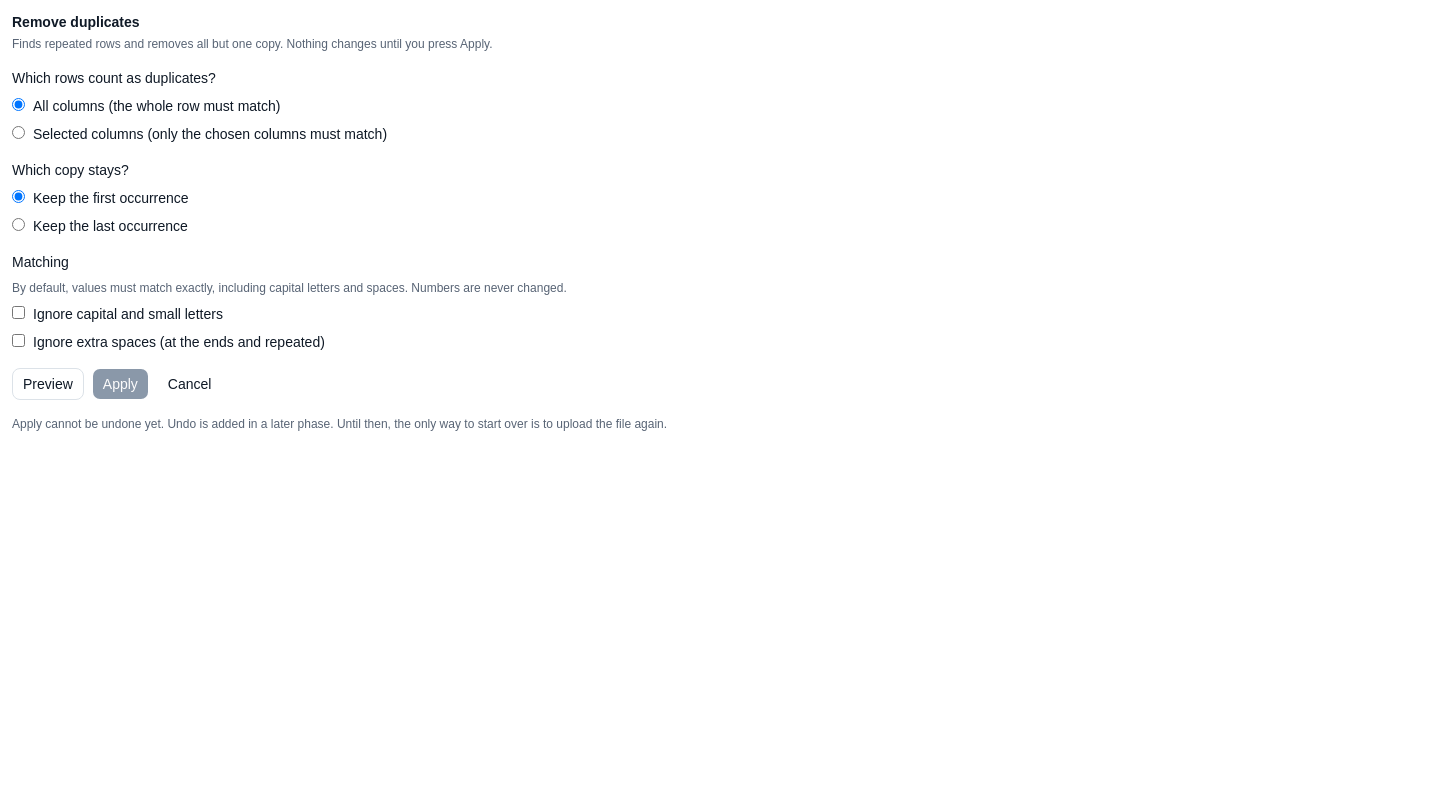
Test case: DuplicatesPanel: preview › sends every setting the user chose
The width and height of the screenshot is (1452, 810).
Click the radio button labelled "Keep the last occurrence" at (18, 224), box x1=12 y1=218 x2=25 y2=231
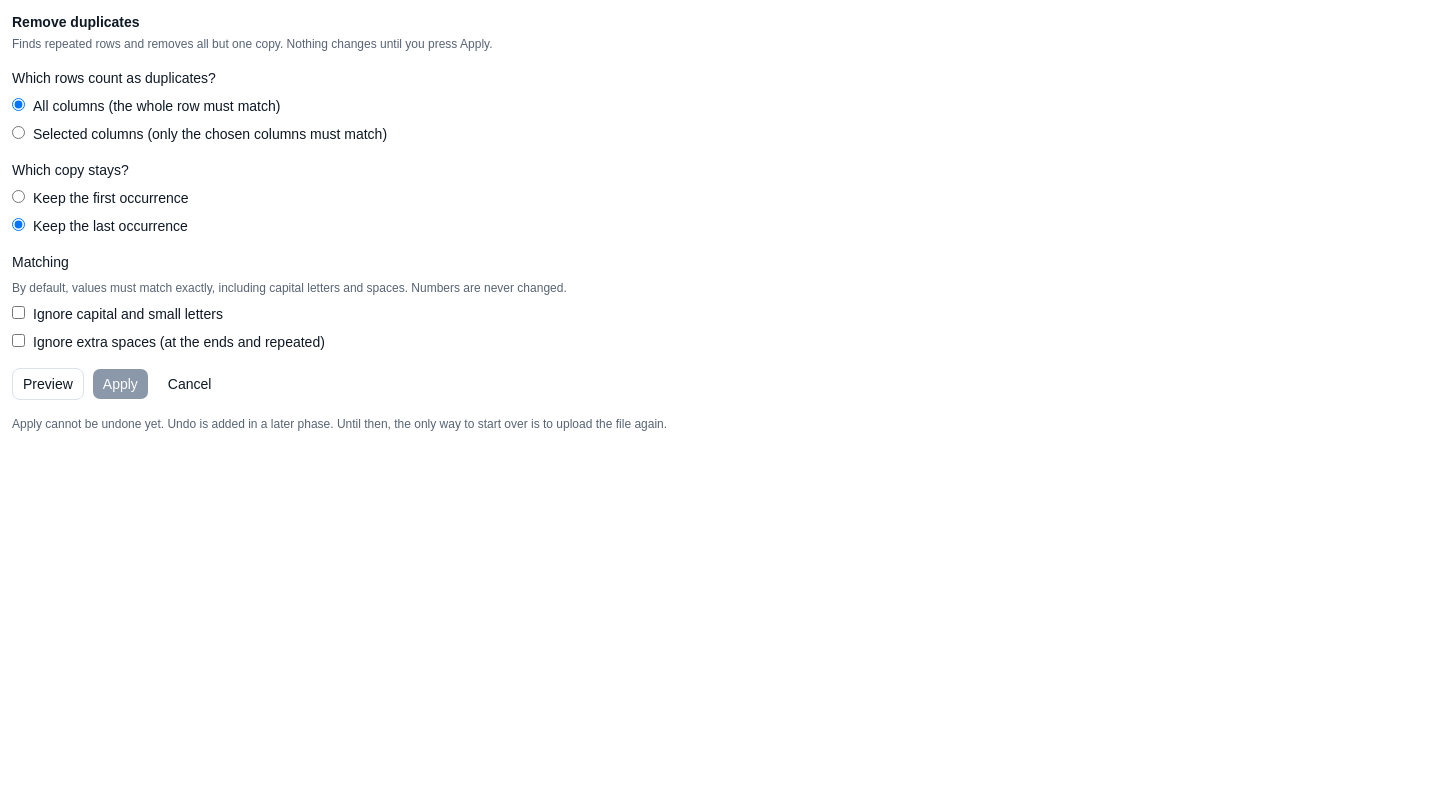
Click the checkbox labelled "Ignore capital and small letters" at (18, 312), box x1=12 y1=306 x2=25 y2=319
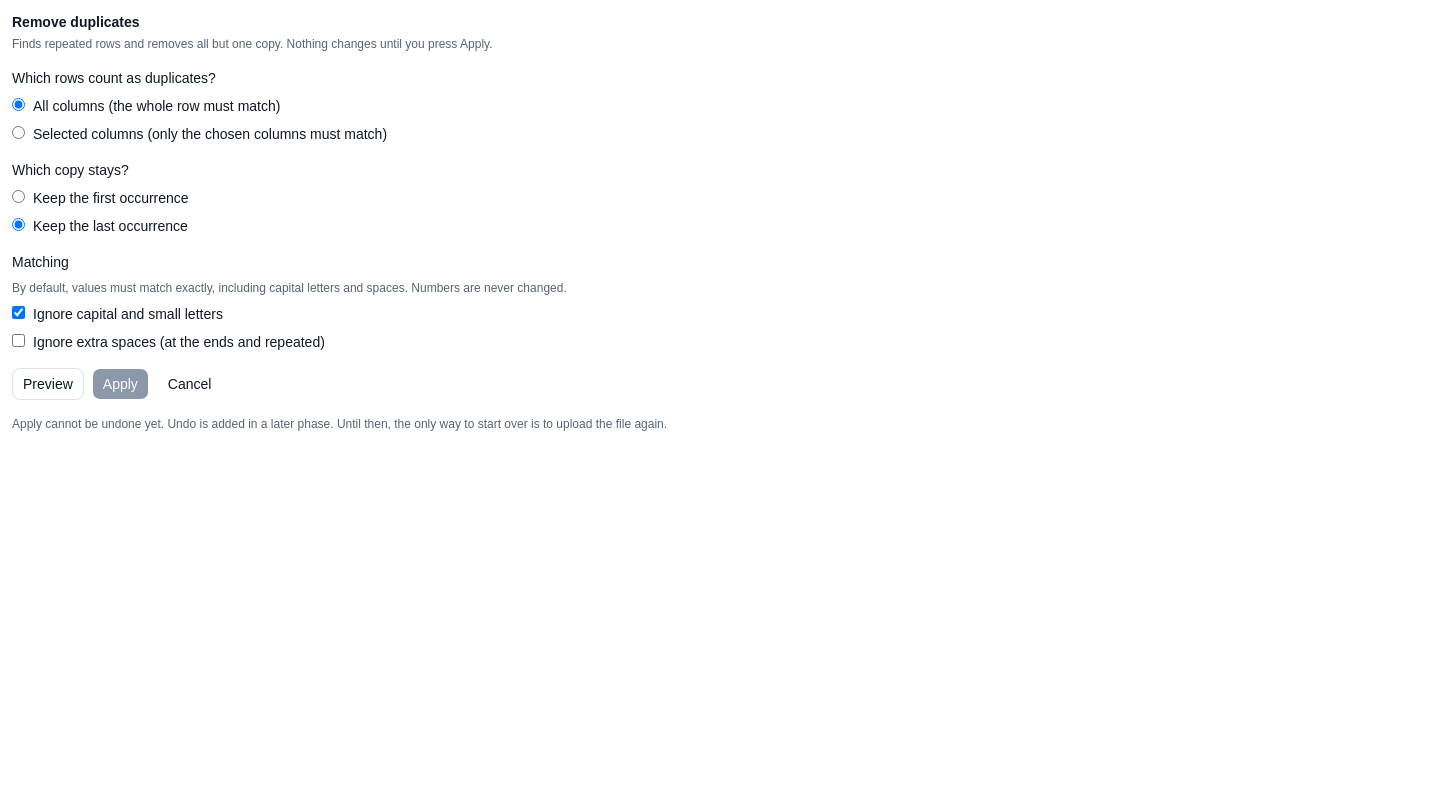
Click the checkbox labelled "Ignore extra spaces (at the ends and repeated)" at (18, 340), box x1=12 y1=334 x2=25 y2=347
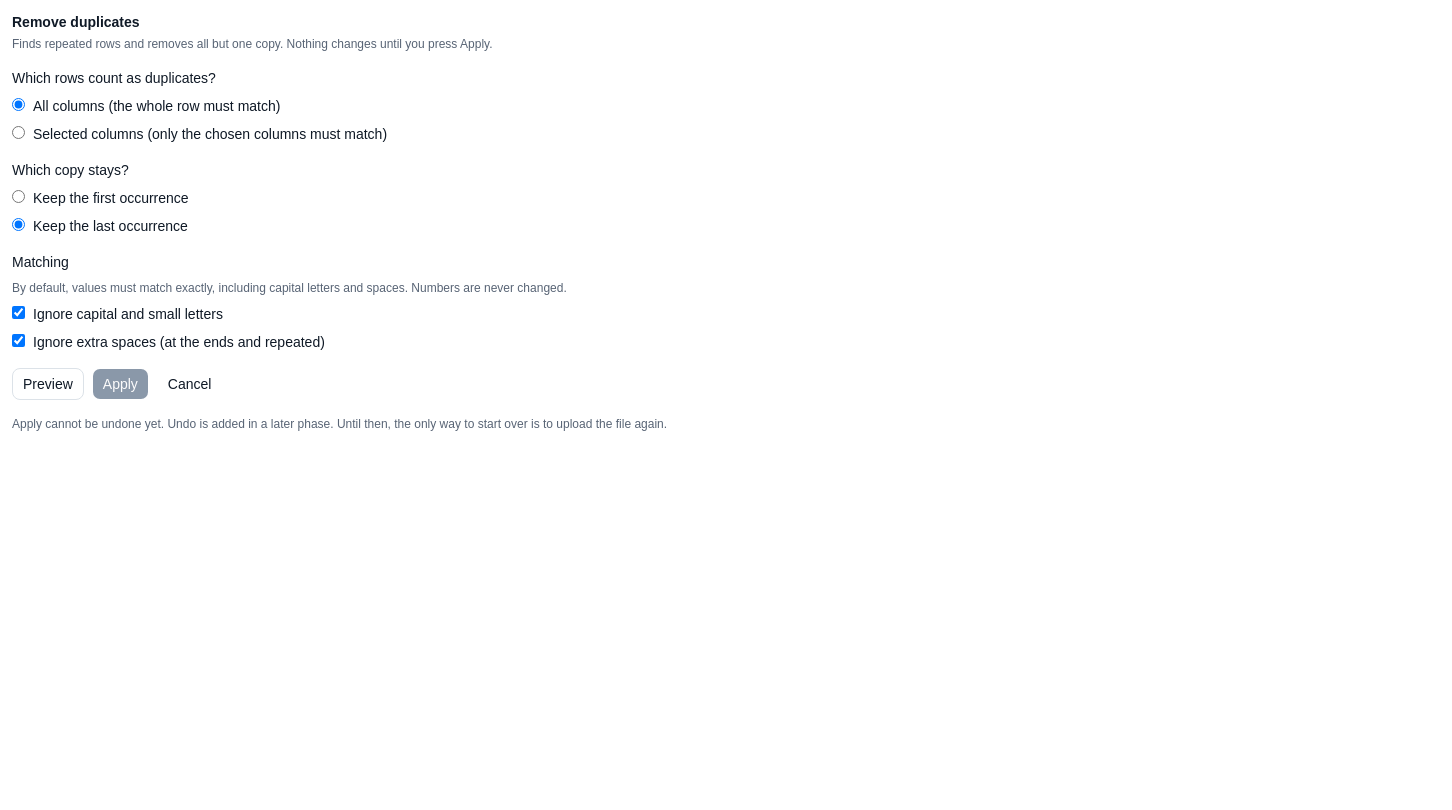
Click the radio button labelled "Selected columns (only the chosen columns must match)" at (18, 132), box x1=12 y1=126 x2=25 y2=139
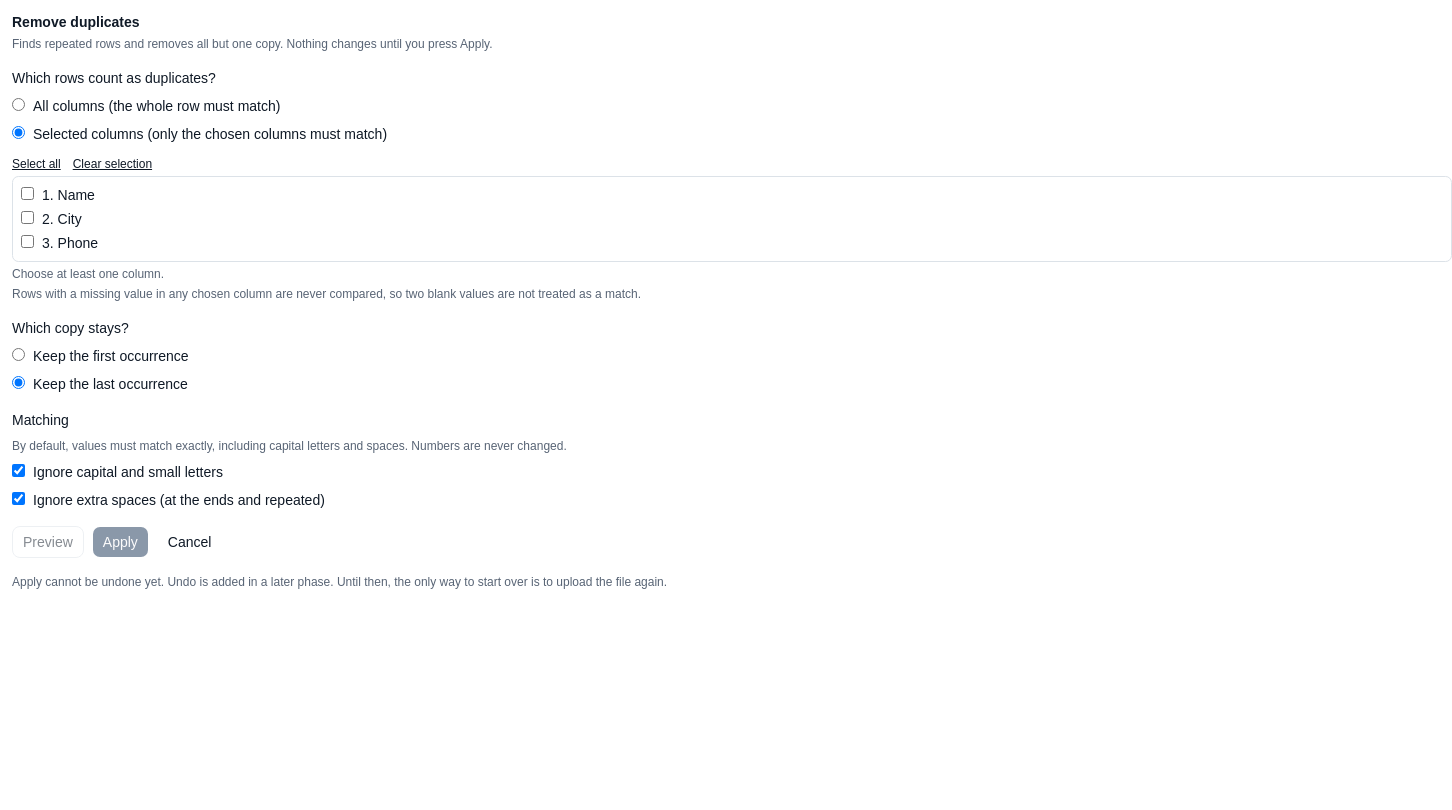
Click the checkbox labelled "2. City" at (28, 218), box x1=21 y1=211 x2=34 y2=224
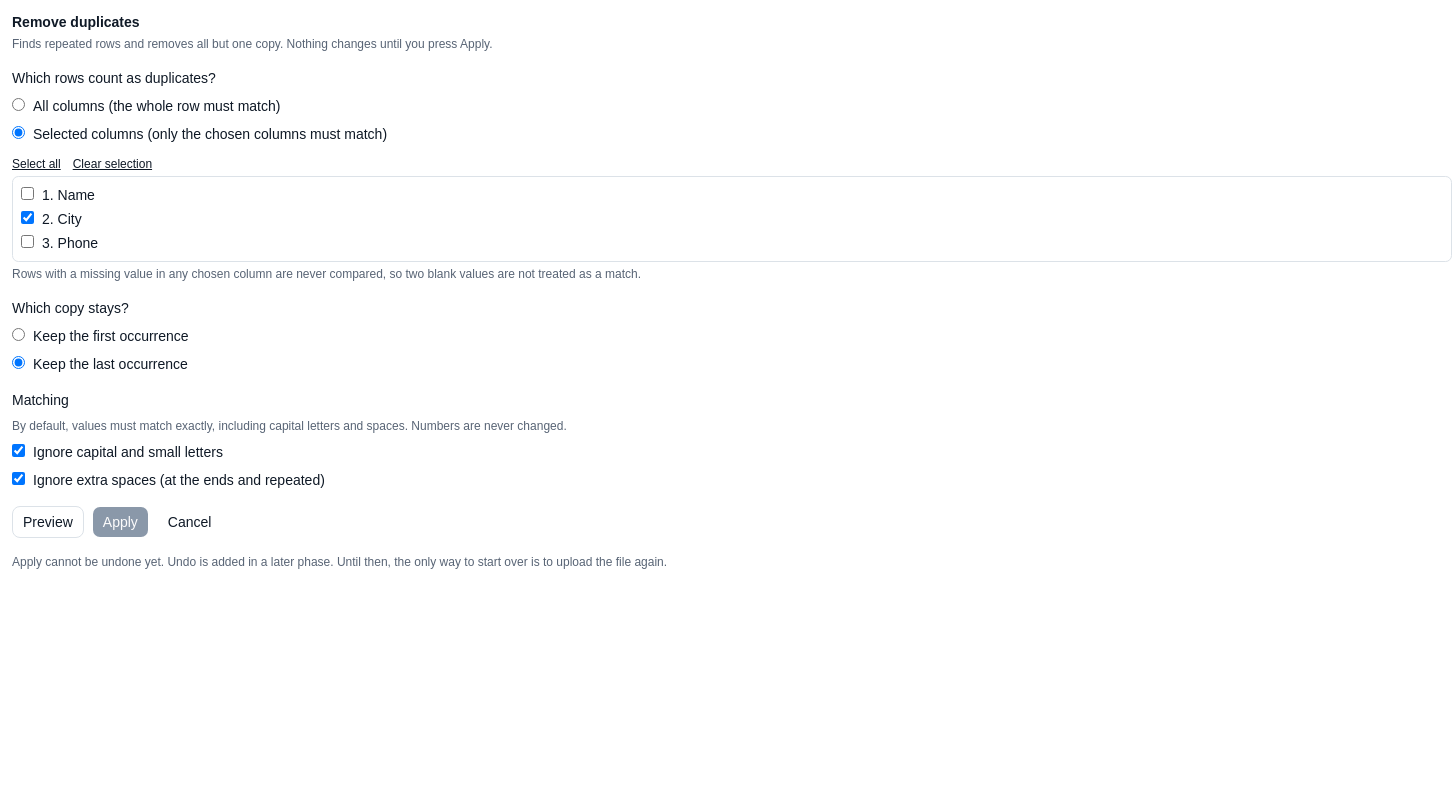
Click the button "Preview" at (48, 522), box x1=12 y1=506 x2=84 y2=538
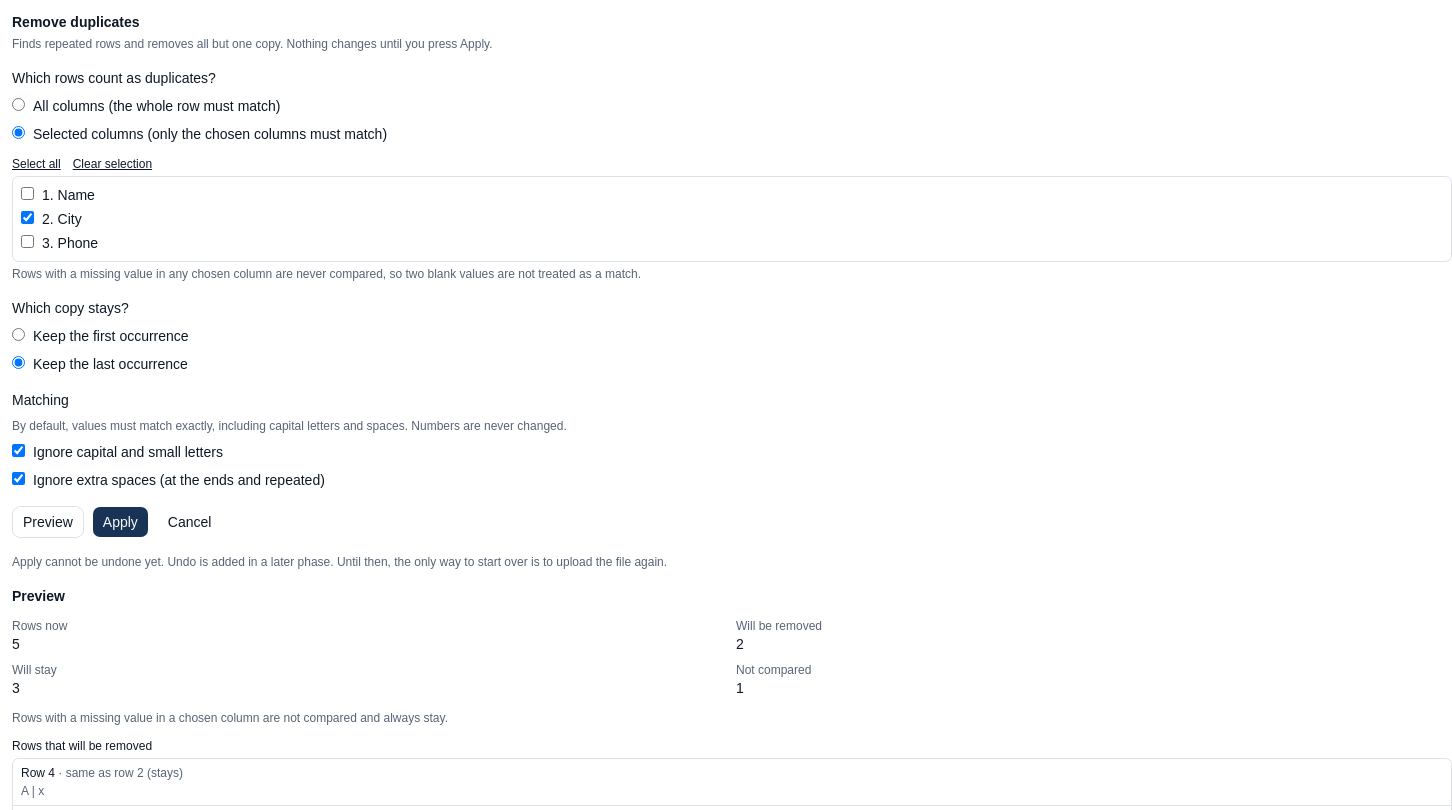
Expected: the text "Rows with a missing value in a chosen column are not compared and always stay." is shown, x1=12 y1=711 x2=448 y2=725
